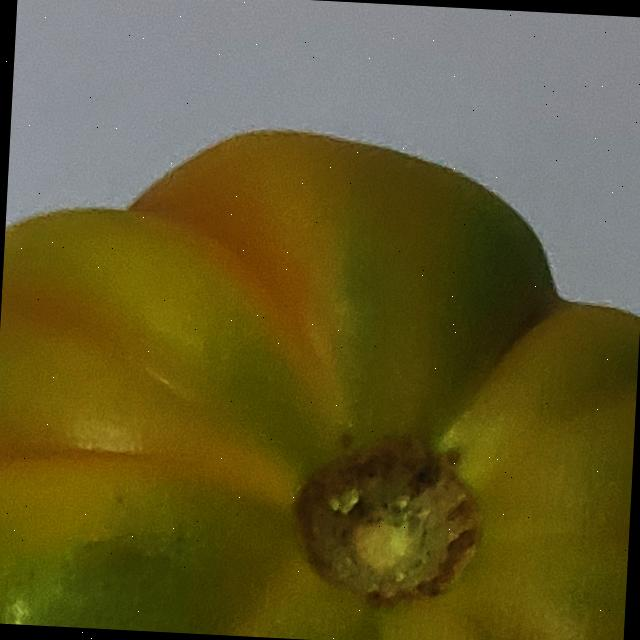tomato: (0, 67, 640, 640)
